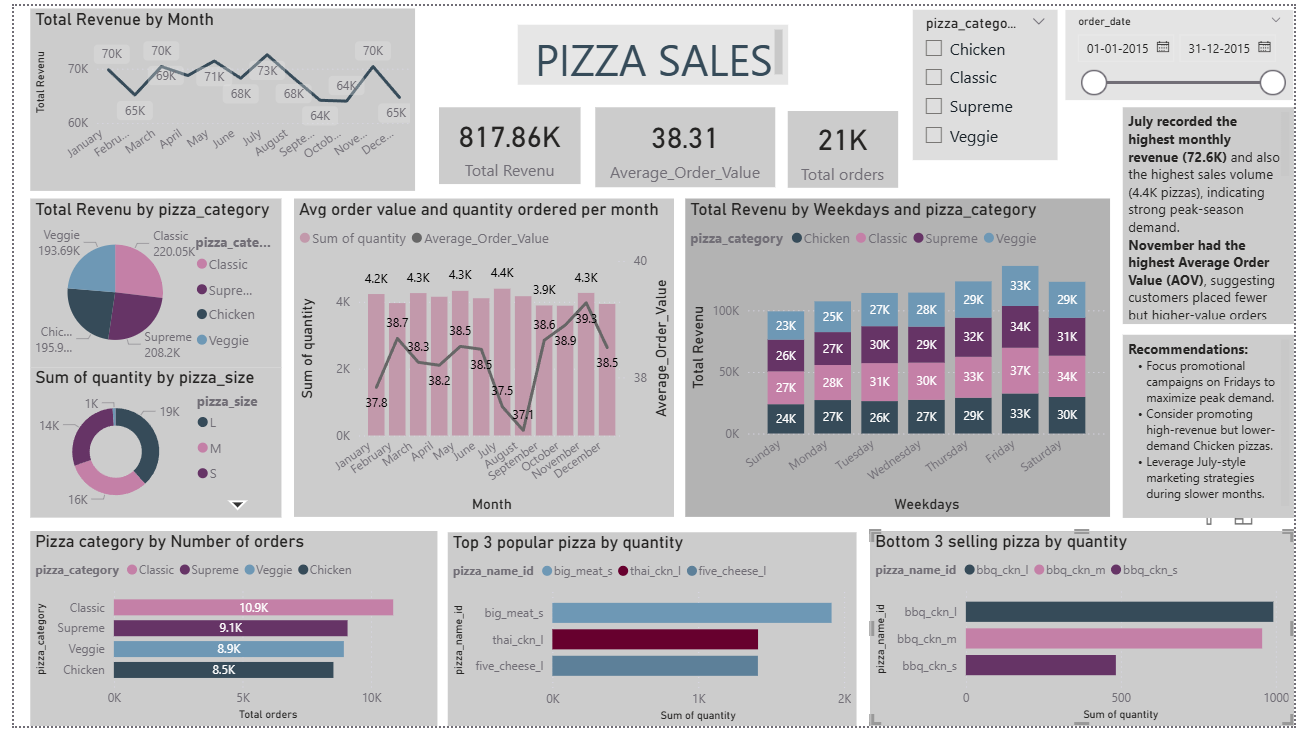

The dashboard page shown, as its layout file describes it:
{"tool":"powerbi","page":{"name":"Page 1","canvas":[1280,720],"ordinal":0},"visuals":[{"type":"textbox","box":[503.3,18.3,270,60],"z":0},{"type":"lineChart","title":"Total Revenue by Month","fields":{"Category":["pizza_sales.order_date.Variation.Date Hierarchy.Month","pizza_sales.order_date.Variation.Date Hierarchy.Day"],"Y":["pizza_sales.Total_Revenu"]},"box":[16.2,2.5,385,182.5],"z":1000},{"type":"card","fields":{"Values":["pizza_sales.Total_Revenu"]},"box":[425,101.7,141.7,76.7],"z":2000},{"type":"card","fields":{"Values":["pizza_sales.Number_of_order"]},"box":[773.3,105,110,76.7],"z":3000},{"type":"barChart","title":"Pizza category by Number of orders","fields":{"Category":["pizza_sales.pizza_category"],"Y":["pizza_sales.Number_of_order"],"Series":["pizza_sales.pizza_category"]},"box":[16.2,525,407.5,195],"z":4000},{"type":"lineStackedColumnComboChart","title":"Avg order value and quantity ordered  per month","fields":{"Category":["pizza_sales.order_date.Variation.Date Hierarchy.Month","pizza_sales.order_date.Variation.Date Hierarchy.Day"],"Y2":["pizza_sales.Average_Order_Value"],"Y":["Sum(pizza_sales.quantity)"]},"box":[280,192.5,380,318.8],"z":5000},{"type":"pieChart","fields":{"Category":["pizza_sales.pizza_category"],"Y":["pizza_sales.Total_Revenu"]},"box":[16.2,192.5,251.2,168.8],"z":6000},{"type":"donutChart","fields":{"Category":["pizza_sales.pizza_size"],"Y":["Sum(pizza_sales.quantity)"]},"box":[15.7,361.4,251.4,150],"z":7000},{"type":"card","fields":{"Values":["pizza_sales.Average_Order_Value"]},"box":[581.7,101.7,180,80],"z":8000},{"type":"barChart","title":"Top 3 popular pizza by quantity","fields":{"Category":["pizza_sales.pizza_name_id"],"Y":["Sum(pizza_sales.quantity)"],"Series":["pizza_sales.pizza_name_id"]},"box":[434.3,525.7,408.6,194.3],"z":9000},{"type":"slicer","fields":{"Values":["pizza_sales.order_date"]},"box":[1051.7,3.3,228.3,90],"z":10000},{"type":"slicer","fields":{"Values":["pizza_sales.pizza_category"]},"box":[898.3,3.3,145,150],"z":11000},{"type":"columnChart","fields":{"Y":["pizza_sales.Total_Revenu"],"Category":["pizza_sales.WEEKDAYS"],"Series":["pizza_sales.pizza_category"]},"box":[671.2,192.5,425,318.8],"z":12000},{"type":"textbox","box":[1108.6,101.4,171.4,217.1],"z":13000},{"type":"barChart","title":"Bottom 3 selling pizza by quantity","fields":{"Category":["pizza_sales.pizza_name_id"],"Y":["Sum(pizza_sales.quantity)"],"Series":["pizza_sales.pizza_name_id"]},"box":[856.2,525,423.8,195],"z":14000},{"type":"textbox","box":[1108.6,328.6,171.4,182.9],"z":15000}]}

Visuals, with their boxes in screenshot pixels (x1, y1, x2, y2), scaled from the page's 1280x720 canvas onto the 1311x739 screenshot:
textbox: left=515, top=19, right=792, bottom=80
"Total Revenue by Month" lineChart: left=17, top=3, right=411, bottom=190
card - pizza_sales.Total_Revenu: left=435, top=104, right=580, bottom=183
card - pizza_sales.Number_of_order: left=792, top=108, right=905, bottom=186
"Pizza category by Number of orders" barChart: left=17, top=539, right=434, bottom=738
"Avg order value and quantity ordered  per month" lineStackedColumnComboChart: left=287, top=198, right=676, bottom=525
pieChart - pizza_sales.pizza_category x pizza_sales.Total_Revenu: left=17, top=198, right=274, bottom=371
donutChart - pizza_sales.pizza_size x Sum(pizza_sales.quantity): left=16, top=371, right=274, bottom=525
card - pizza_sales.Average_Order_Value: left=596, top=104, right=780, bottom=186
"Top 3 popular pizza by quantity" barChart: left=445, top=540, right=863, bottom=738
slicer - pizza_sales.order_date: left=1077, top=3, right=1310, bottom=96
slicer - pizza_sales.pizza_category: left=920, top=3, right=1069, bottom=157
columnChart - pizza_sales.Total_Revenu x pizza_sales.WEEKDAYS: left=687, top=198, right=1123, bottom=525
textbox: left=1135, top=104, right=1310, bottom=327
"Bottom 3 selling pizza by quantity" barChart: left=877, top=539, right=1310, bottom=738
textbox: left=1135, top=337, right=1310, bottom=525
